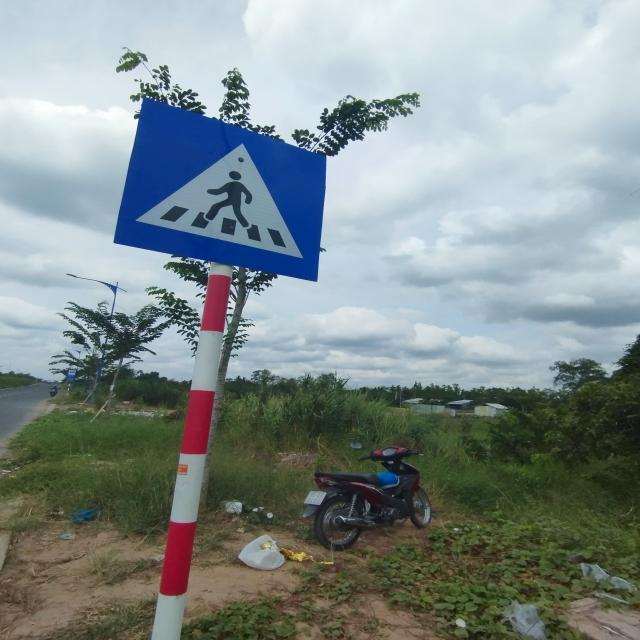Giao_Nhau_Duong_Uu_Tien: (112, 97, 329, 286)
